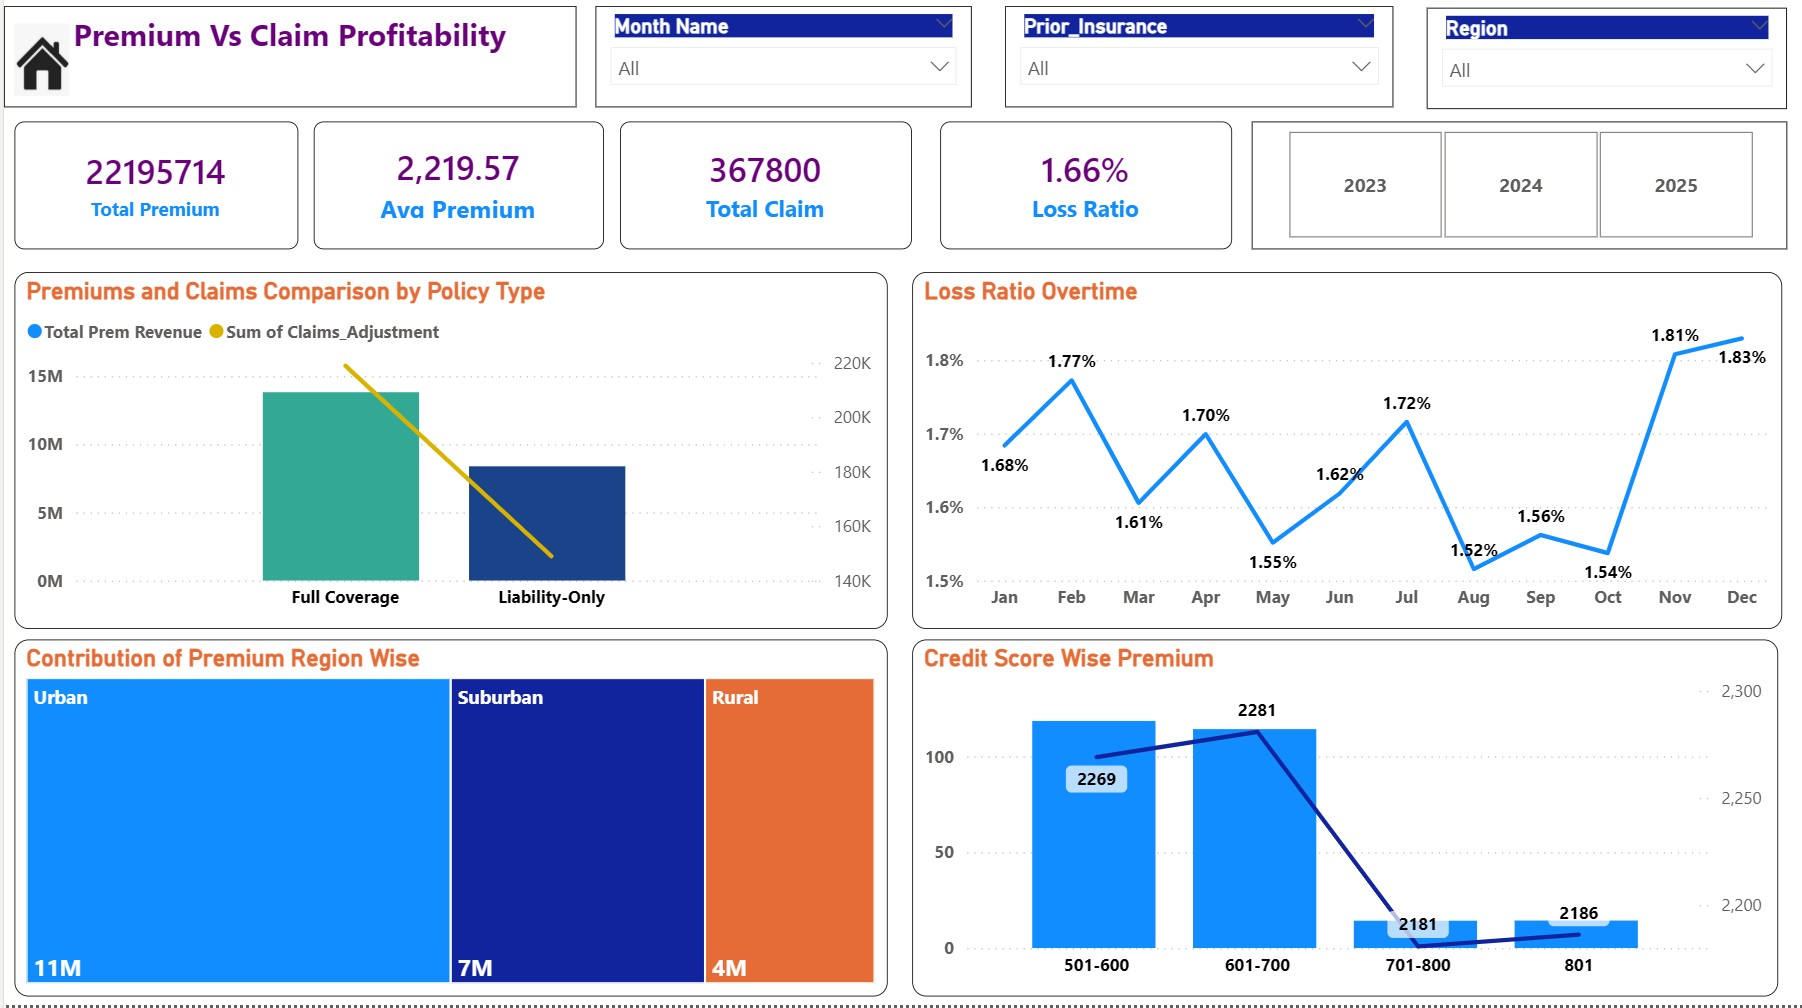

What the dashboard file says about the page in this screenshot:
{"tool":"powerbi","page":{"name":"Premium Vs Claim Profitability","canvas":[1280,720],"ordinal":2},"visuals":[{"type":"textbox","box":[0,10,406.7,72.1],"z":0},{"type":"cardVisual","fields":{"Data":["Measures1.Total Prem Revenue"]},"box":[7.5,92,201.5,90.8],"z":1000},{"type":"cardVisual","fields":{"Data":["Measures1.Average Premium"]},"box":[220.1,92,206.5,90.8],"z":2000},{"type":"cardVisual","fields":{"Data":["Measures1.Total Claim"]},"box":[437.8,92,207.7,90.8],"z":3000},{"type":"slicer","fields":{"Values":["Calendar Table.Month Name"]},"box":[420.4,10,267.4,72.1],"z":4000},{"type":"slicer","fields":{"Values":["Calendar Table.Year"]},"box":[886.8,92,380.6,90.8],"z":5000},{"type":"slicer","fields":{"Values":["synthetic_insurance_data.Prior_Insurance"]},"box":[711.4,10,276.1,72.1],"z":6000},{"type":"lineStackedColumnComboChart","title":"Premiums and Claims Comparison by Policy Type","fields":{"Category":["synthetic_insurance_data.Policy_Type"],"Y":["Measures1.Total Prem Revenue"],"Y2":["Sum(synthetic_insurance_data.Claims_Adjustment)"]},"box":[7.5,199,620.6,253.7],"z":7000},{"type":"slicer","fields":{"Values":["synthetic_insurance_data.Region"]},"box":[1011.2,11.2,256.2,72.1],"z":8000},{"type":"image","box":[7.7,21.9,38.6,51.5],"z":9000},{"type":"treemap","title":"Contribution of Premium Region Wise","fields":{"Group":["synthetic_insurance_data.Region"],"Values":["Measures1.Total Prem Revenue"]},"box":[7.5,460.2,620.6,253.7],"z":10000},{"type":"lineChart","title":"Loss Ratio Overtime","fields":{"Y":["Measures1.Loss Ratio"],"Category":["Calendar Table.Month Name"]},"box":[645.5,199,618.1,253.7],"z":11000},{"type":"cardVisual","fields":{"Data":["Measures1.Loss Ratio"]},"box":[665.4,92,207.7,90.8],"z":12000},{"type":"lineClusteredColumnComboChart","title":"Credit Score Wise Premium","fields":{"Category":["synthetic_insurance_data.Credit Group"],"Y":["Measures1.Avg Preimum Adj"],"Y2":["Measures1.Avg Premium"]},"box":[645.5,460.2,615.7,253.7],"z":13000}]}

Visuals, with their boxes in screenshot pixels (x1, y1, x2, y2), scaled from the page's 1280x720 canvas onto the 1802x1008 screenshot:
textbox: {"left": 0, "top": 14, "right": 573, "bottom": 115}
cardVisual - Measures1.Total Prem Revenue: {"left": 11, "top": 129, "right": 294, "bottom": 256}
cardVisual - Measures1.Average Premium: {"left": 310, "top": 129, "right": 601, "bottom": 256}
cardVisual - Measures1.Total Claim: {"left": 616, "top": 129, "right": 909, "bottom": 256}
slicer - Calendar Table.Month Name: {"left": 592, "top": 14, "right": 968, "bottom": 115}
slicer - Calendar Table.Year: {"left": 1248, "top": 129, "right": 1784, "bottom": 256}
slicer - synthetic_insurance_data.Prior_Insurance: {"left": 1002, "top": 14, "right": 1390, "bottom": 115}
"Premiums and Claims Comparison by Policy Type" lineStackedColumnComboChart: {"left": 11, "top": 279, "right": 884, "bottom": 634}
slicer - synthetic_insurance_data.Region: {"left": 1424, "top": 16, "right": 1784, "bottom": 117}
image: {"left": 11, "top": 31, "right": 65, "bottom": 103}
"Contribution of Premium Region Wise" treemap: {"left": 11, "top": 644, "right": 884, "bottom": 999}
"Loss Ratio Overtime" lineChart: {"left": 909, "top": 279, "right": 1779, "bottom": 634}
cardVisual - Measures1.Loss Ratio: {"left": 937, "top": 129, "right": 1229, "bottom": 256}
"Credit Score Wise Premium" lineClusteredColumnComboChart: {"left": 909, "top": 644, "right": 1776, "bottom": 999}
